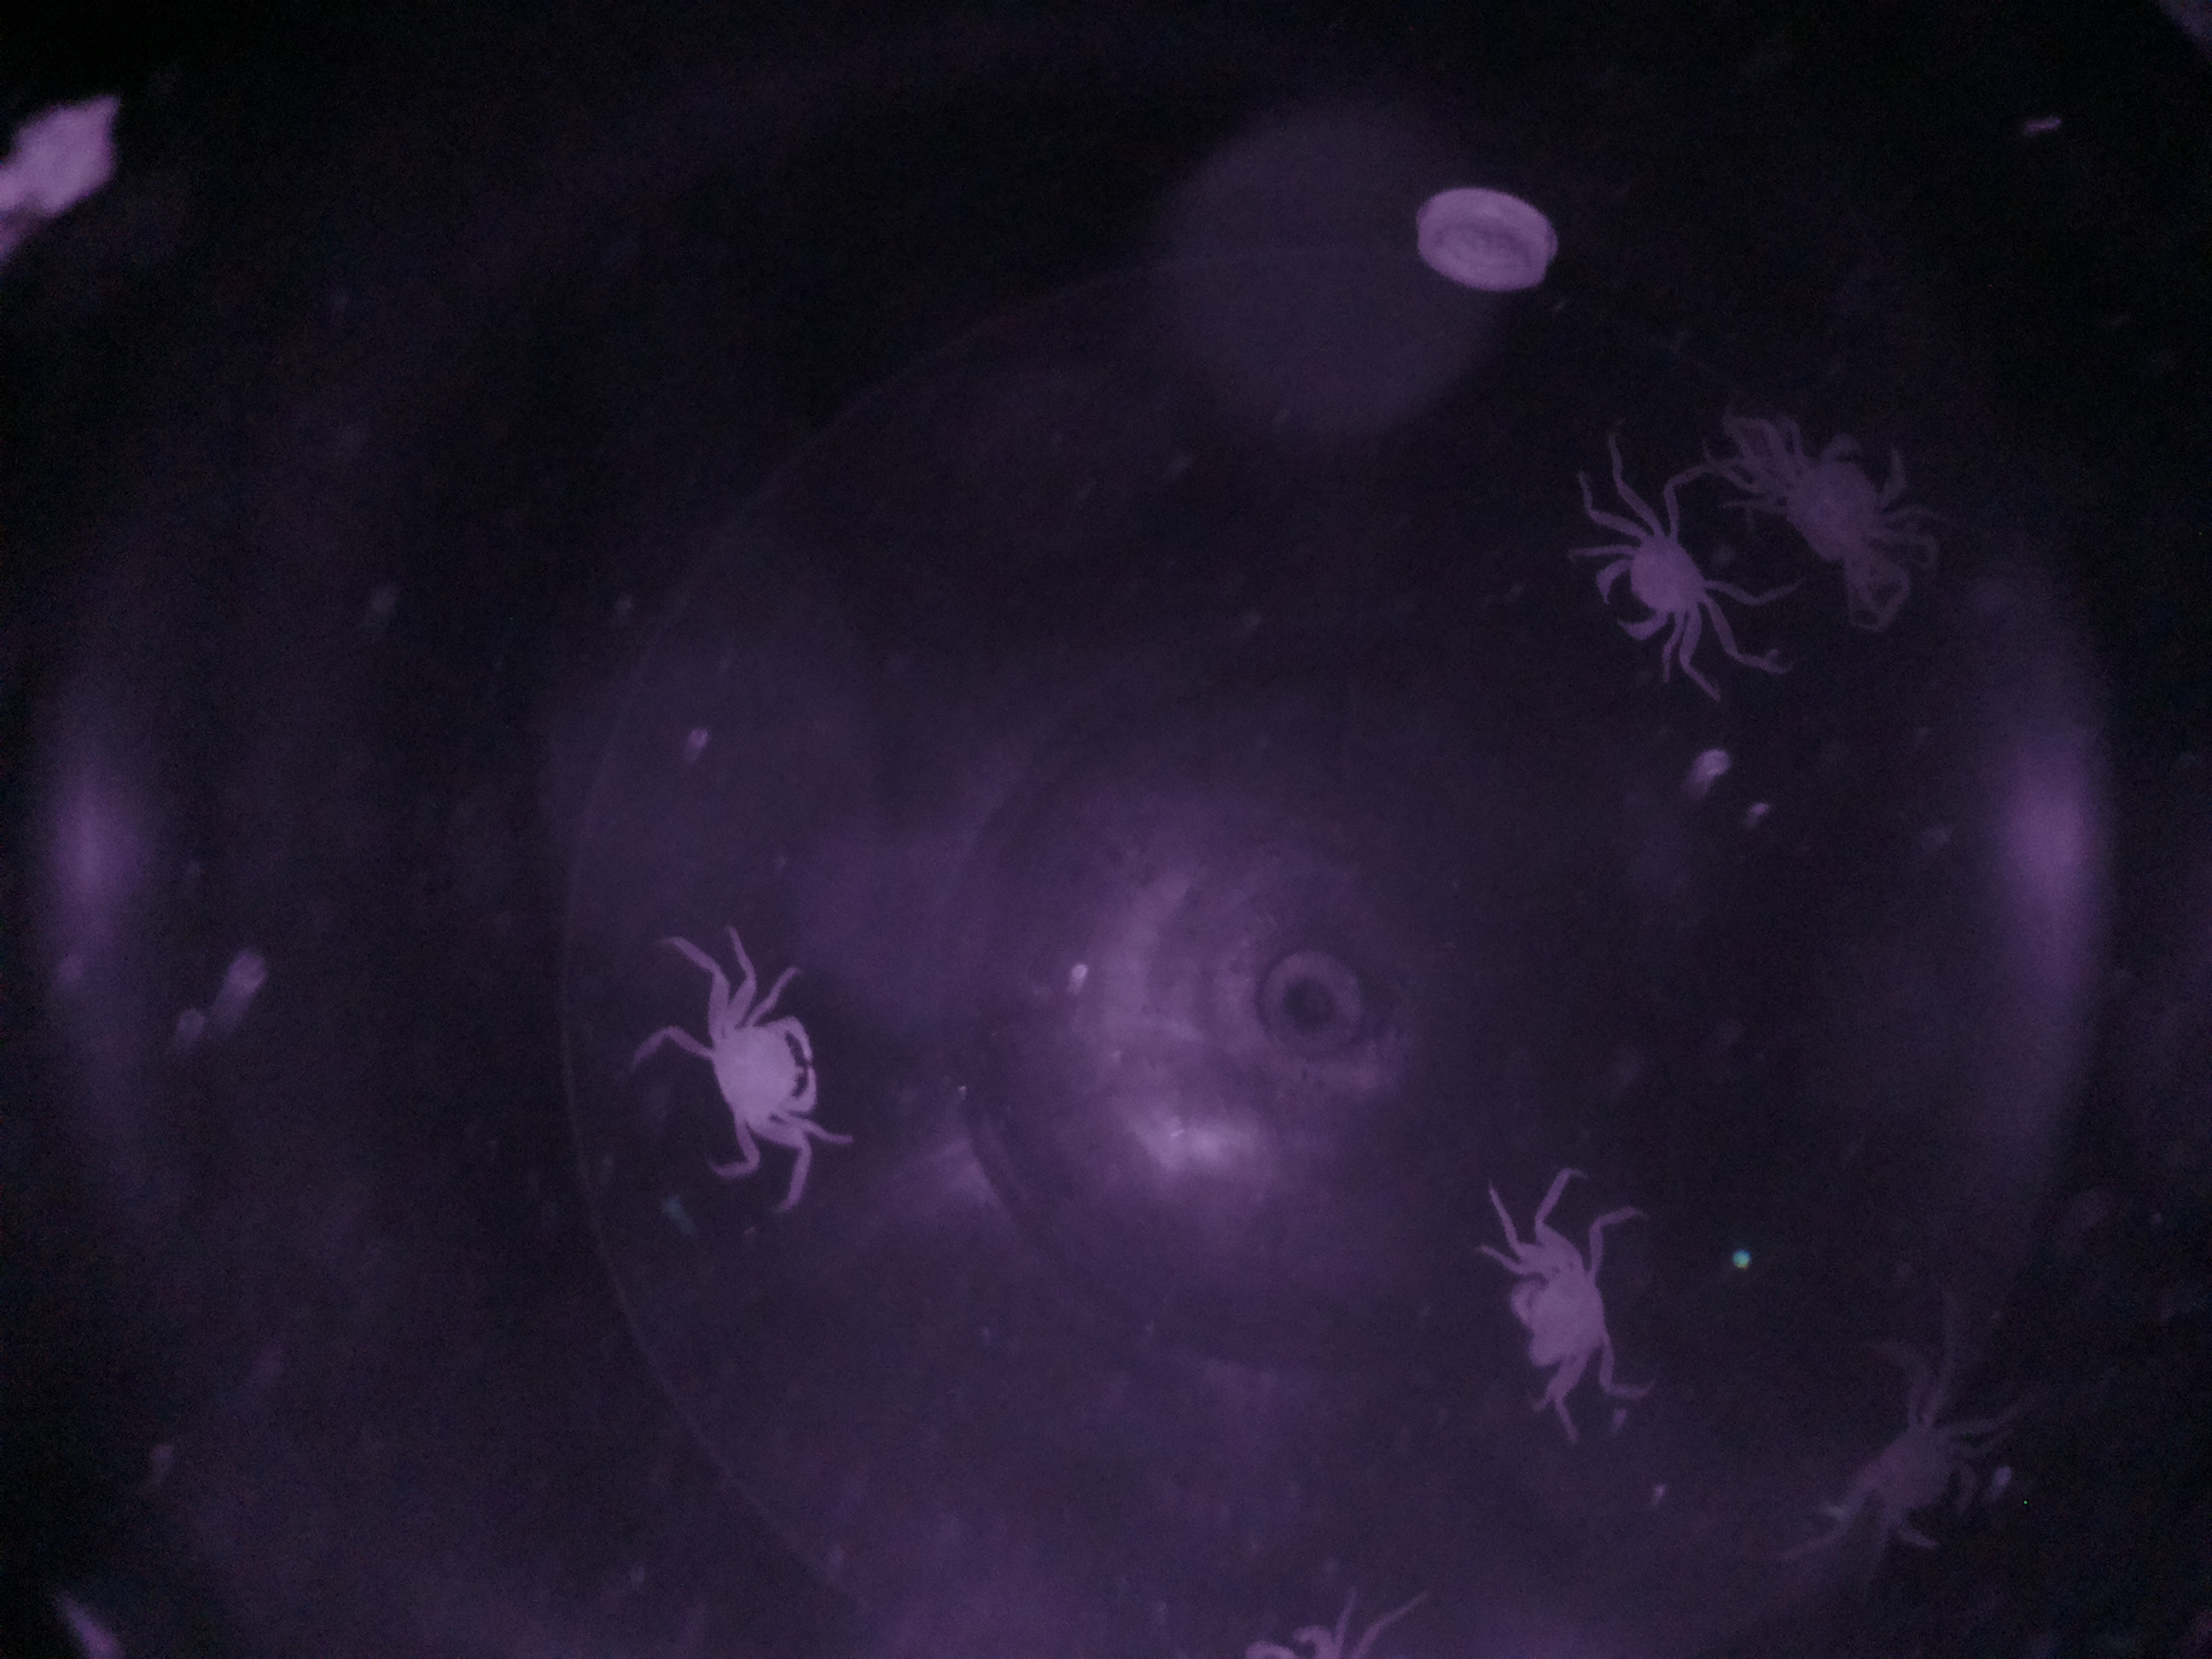Crab: (1475, 1197, 1644, 1420), (672, 974, 853, 1168), (1571, 495, 1740, 680)
